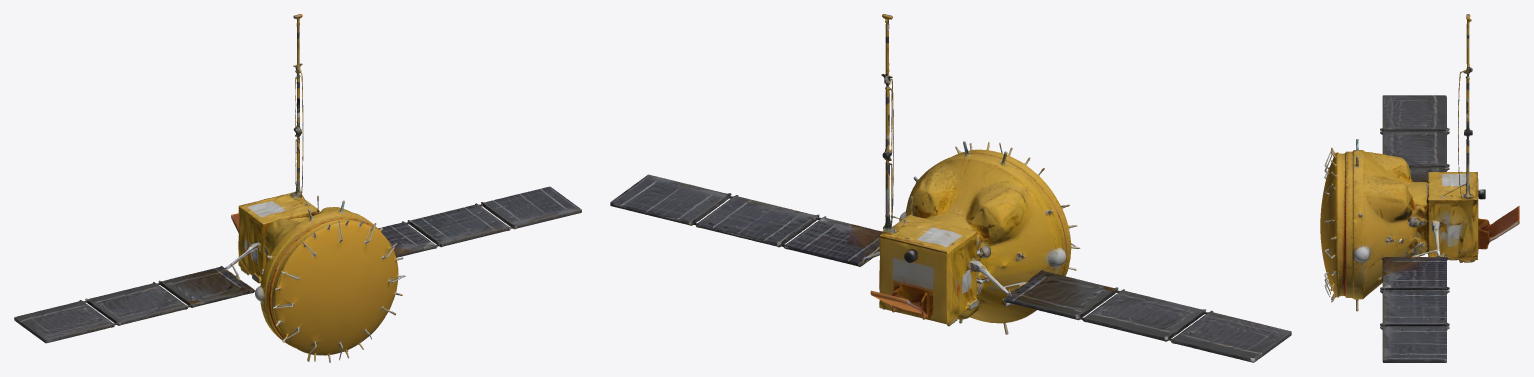
File: smile.glb
3 views of the same model, side by side, from view 1: azimuth 30°, elevation 25°; view 2: azimuth 150°, elevation 25°; view 3: azimuth 270°, elevation 25° (orthographic). The views are drawn at different scales.
Size of the model in its own units: 1.9 by 0.9991 by 0.6054.
Materials: 1 (1 with a texture image).
